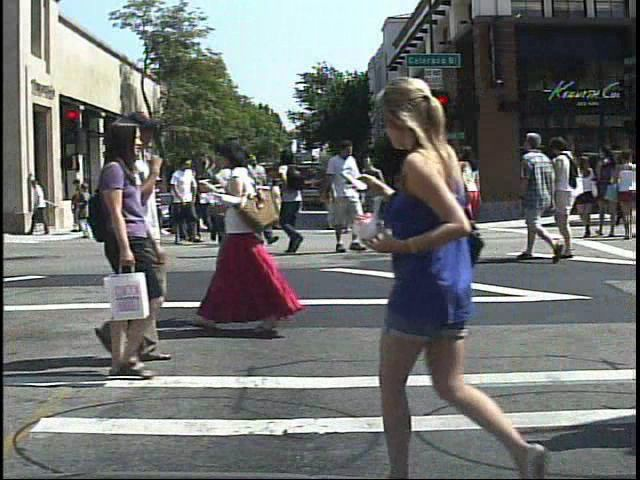person: (359, 67, 570, 480), (77, 108, 167, 377), (197, 135, 293, 337), (130, 109, 185, 371), (234, 132, 278, 334), (514, 128, 561, 264), (405, 134, 454, 262), (548, 132, 596, 261), (235, 137, 278, 261), (450, 144, 495, 256), (328, 139, 371, 255), (276, 150, 318, 258), (237, 150, 277, 248), (201, 153, 238, 250), (170, 156, 208, 243), (570, 148, 603, 242), (145, 173, 166, 242), (70, 182, 90, 232)
